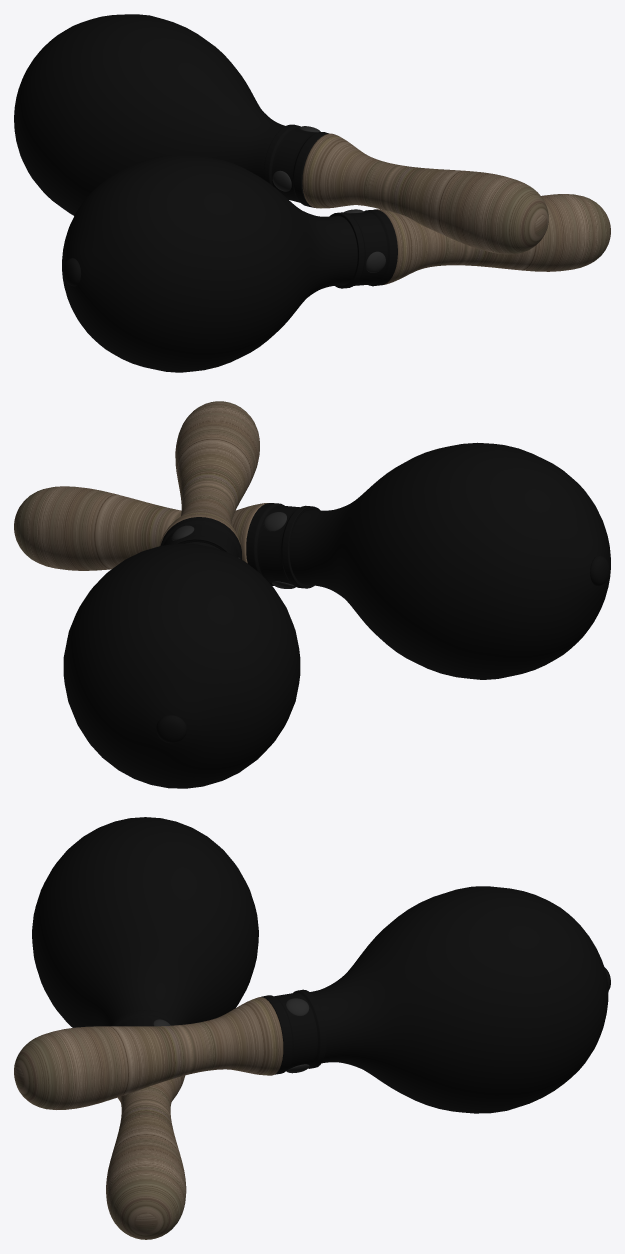
The model's file is maracas.obj.
3 views of the same model, one above another, from view 1: azimuth 30°, elevation 25°; view 2: azimuth 150°, elevation 25°; view 3: azimuth 270°, elevation 25° (orthographic). The views are drawn at different scales.
Parts seen in each view (by area): view 1: object_0; view 2: object_0; view 3: object_0.
Part boxes in pixels (x1,y1,x2,y2): object_0: [14, 14, 610, 372]; object_0: [14, 401, 610, 788]; object_0: [14, 817, 610, 1239].
Size of the model in its own units: 0.7805 by 0.282 by 0.7185.
Materials: 3 (1 with a texture image).
